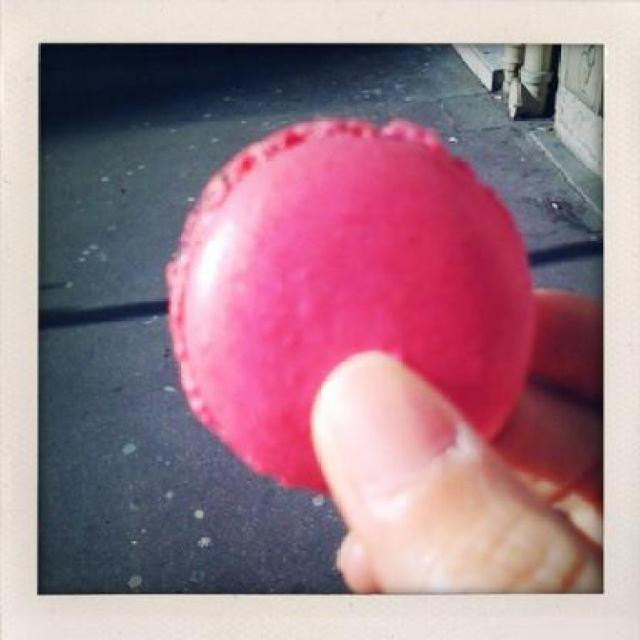Macaron: (154, 107, 556, 516)
